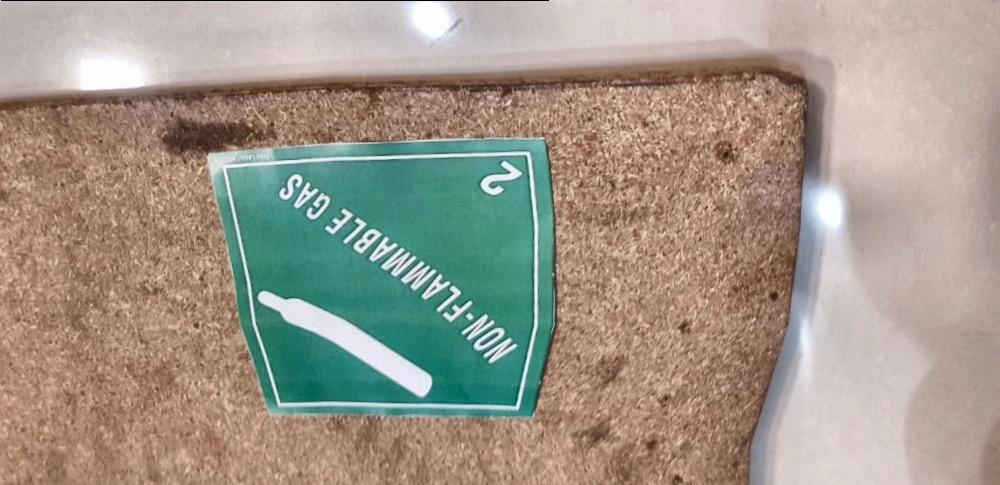non-flammable-gas: (200, 135, 577, 421)
